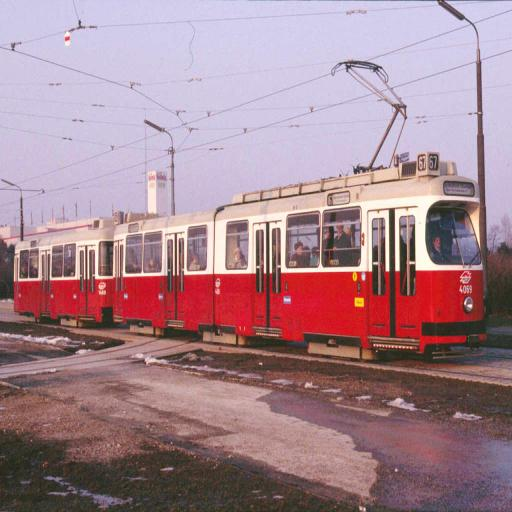E2-Tram: (13, 147, 483, 363)
